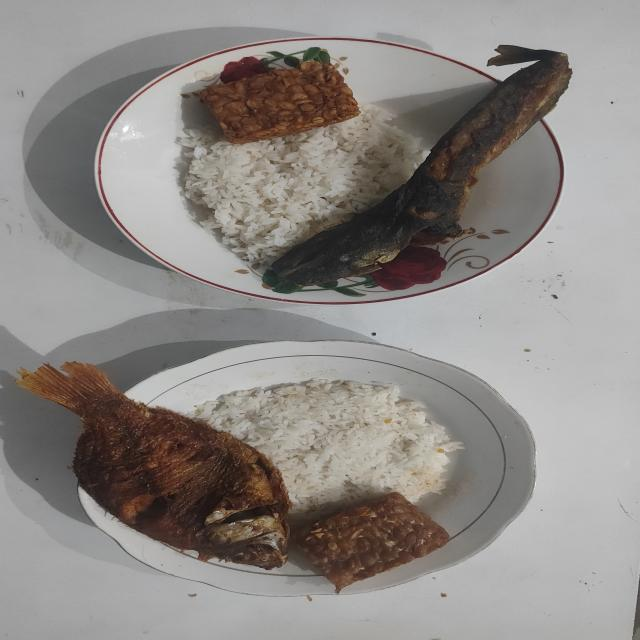ikan_mujair: (18, 362, 291, 568)
nasi_putih: (180, 104, 424, 266), (186, 378, 464, 516)
tempe_goreng: (297, 492, 449, 592), (199, 61, 359, 145)
